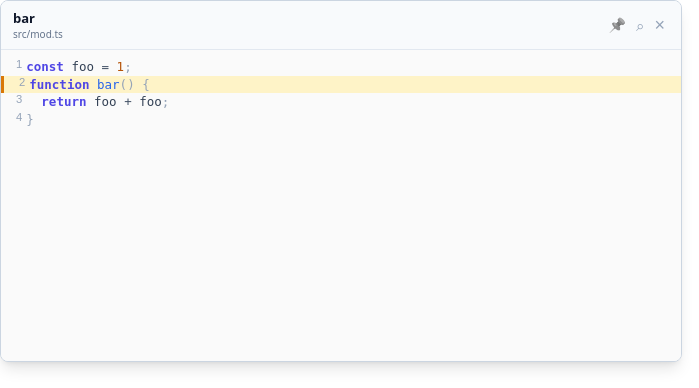
Test case: find-in-frame › highlights all matches with one active and shows the counter
This screenshot has width=699, height=388.
Press f
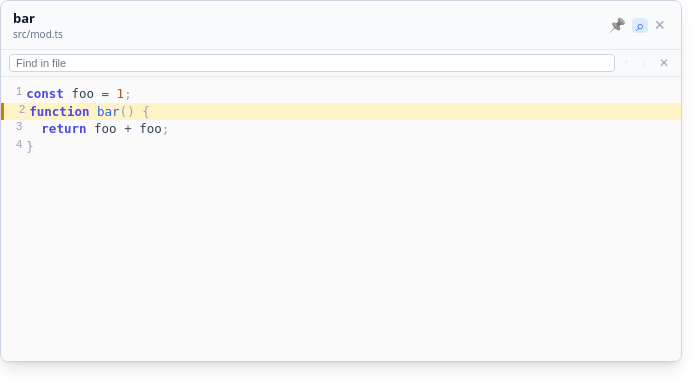
In the field with class "symbol-widget__find-input": (312, 63) [9, 54, 615, 72], type "foo"
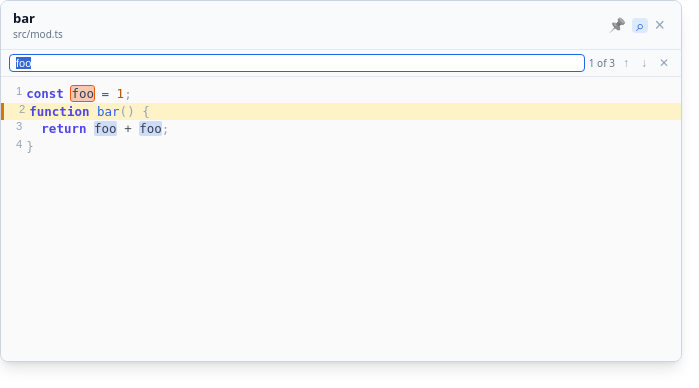
Check: the number of elements with class "hl-match" is 3, box [71, 86, 94, 101]; [94, 121, 117, 136]; [139, 121, 162, 136]
Check: the number of elements with class "hl-match--active" is 1, box [71, 86, 94, 101]
Check: the text with class "symbol-widget__find-counter" reads "1 of 3", box [589, 56, 615, 70]
